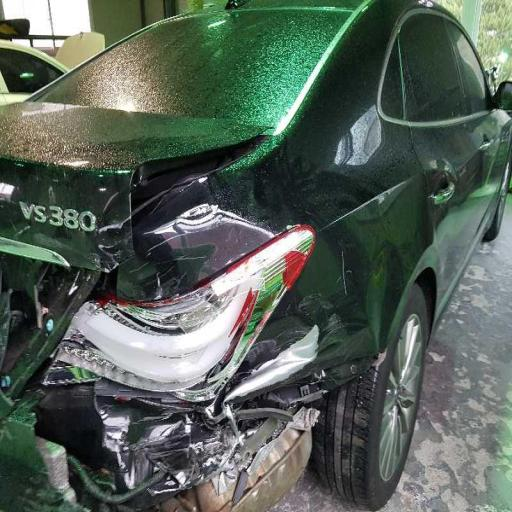broken: (14, 178, 375, 512)
scratch: (318, 94, 413, 172)
